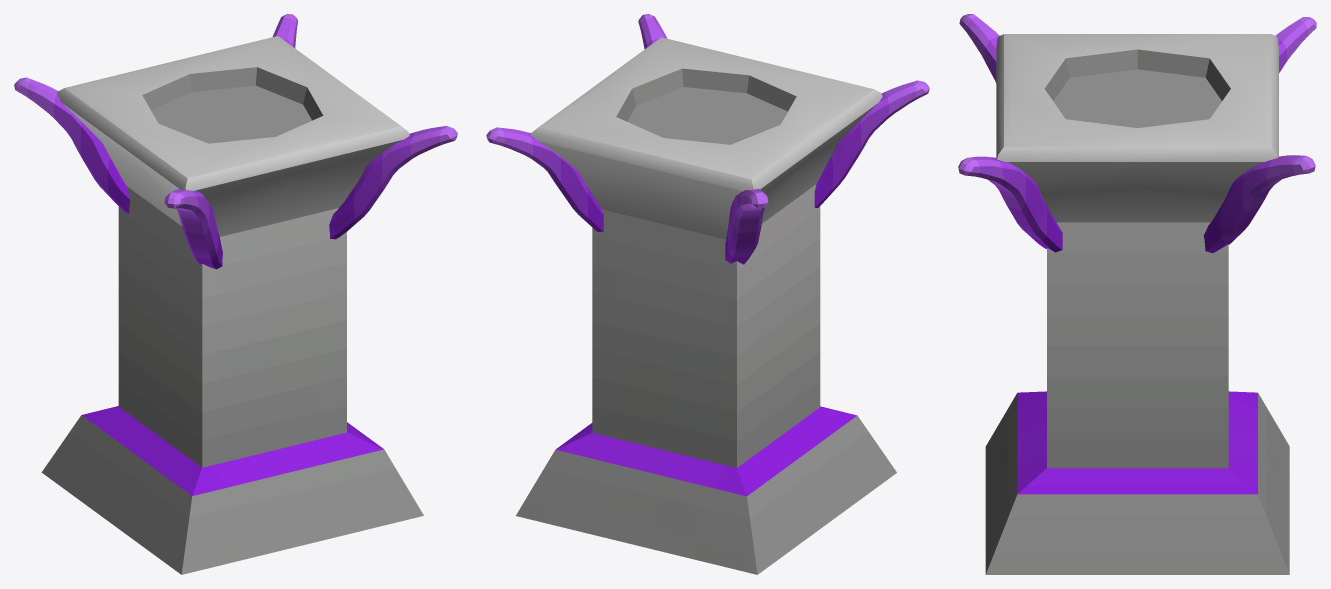
Rendered from altar_night.fbx.
3 renders of one model, left to right at view 1: azimuth 30°, elevation 25°; view 2: azimuth 150°, elevation 25°; view 3: azimuth 270°, elevation 25°, orthographic. The views are drawn at different scales.
Parts seen in each view (by area): view 1: Cube.002; view 2: Cube.002; view 3: Cube.002.
Boxes of the visible parts, x1=… form: Cube.002: x1=14, y1=14, x2=457, y2=574; Cube.002: x1=486, y1=14, x2=929, y2=574; Cube.002: x1=958, y1=14, x2=1316, y2=574.
Bounding box in the file's own units: 301 × 389 × 298.
